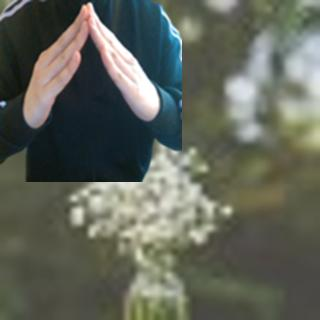HOME: (23, 1, 160, 127)
